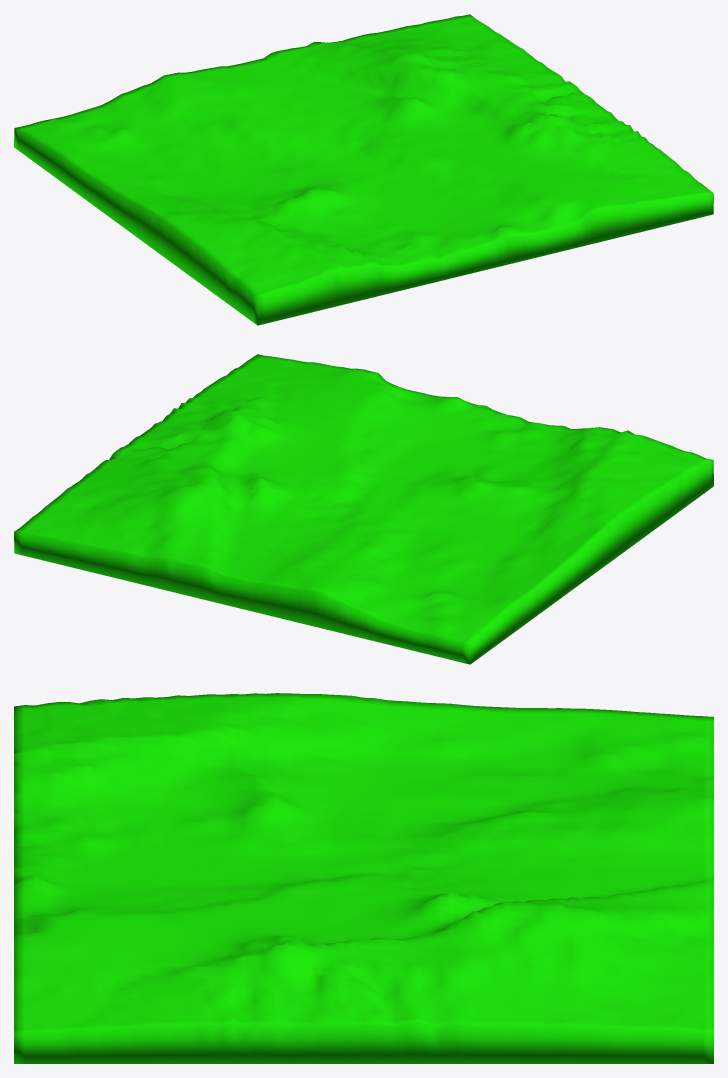
The model's file is lake-naivasha-green.glb.
3 views of the same model, one above another, from view 1: azimuth 30°, elevation 25°; view 2: azimuth 150°, elevation 25°; view 3: azimuth 270°, elevation 25° (orthographic). The views are drawn at different scales.
Parts seen in each view (by area): view 1: 220413-lake-naivasha-102113; view 2: 220413-lake-naivasha-102113; view 3: 220413-lake-naivasha-102113.
Part boxes in pixels (left/top/right/bottom): 220413-lake-naivasha-102113: left=14, top=14, right=713, bottom=325; 220413-lake-naivasha-102113: left=14, top=354, right=713, bottom=664; 220413-lake-naivasha-102113: left=14, top=693, right=713, bottom=1063.
Size of the model in its own units: 9.89 by 1.06 by 9.14.
